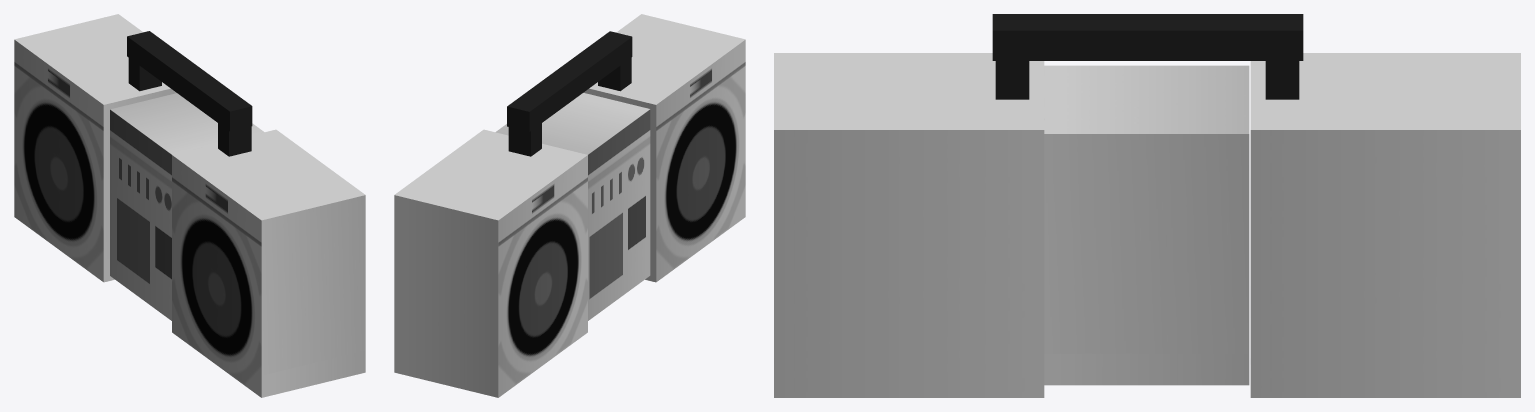
The model's file is ghettoblast.obj.
3 views of the same model, side by side, from view 1: azimuth 30°, elevation 25°; view 2: azimuth 150°, elevation 25°; view 3: azimuth 270°, elevation 25° (orthographic). The views are drawn at different scales.
Visible parts, largest first — view 1: Cube.002, Cube, Cube.001, Cube.003, Cube.004, Cube.005; view 2: Cube, Cube.002, Cube.001, Cube.003, Cube.005, Cube.004; view 3: Cube.002, Cube, Cube.001, Cube.003, Cube.005, Cube.004.
Part boxes in pixels (x1,y1,x2,y2): Cube.002: (172, 129, 365, 397); Cube: (14, 14, 176, 282); Cube.001: (110, 93, 264, 320); Cube.003: (127, 31, 252, 131); Cube.004: (218, 107, 251, 156); Cube.005: (128, 39, 161, 91); Cube: (394, 129, 587, 397); Cube.002: (583, 14, 745, 282); Cube.001: (495, 93, 650, 320); Cube.003: (507, 31, 632, 131); Cube.005: (508, 108, 541, 156); Cube.004: (598, 38, 631, 91); Cube.002: (774, 53, 1044, 397); Cube: (1250, 53, 1520, 397); Cube.001: (1044, 65, 1249, 385); Cube.003: (992, 14, 1303, 60); Cube.005: (1265, 32, 1299, 99); Cube.004: (995, 32, 1029, 99).
Size of the model in its own units: 1.34 by 2.75 by 5.52.
